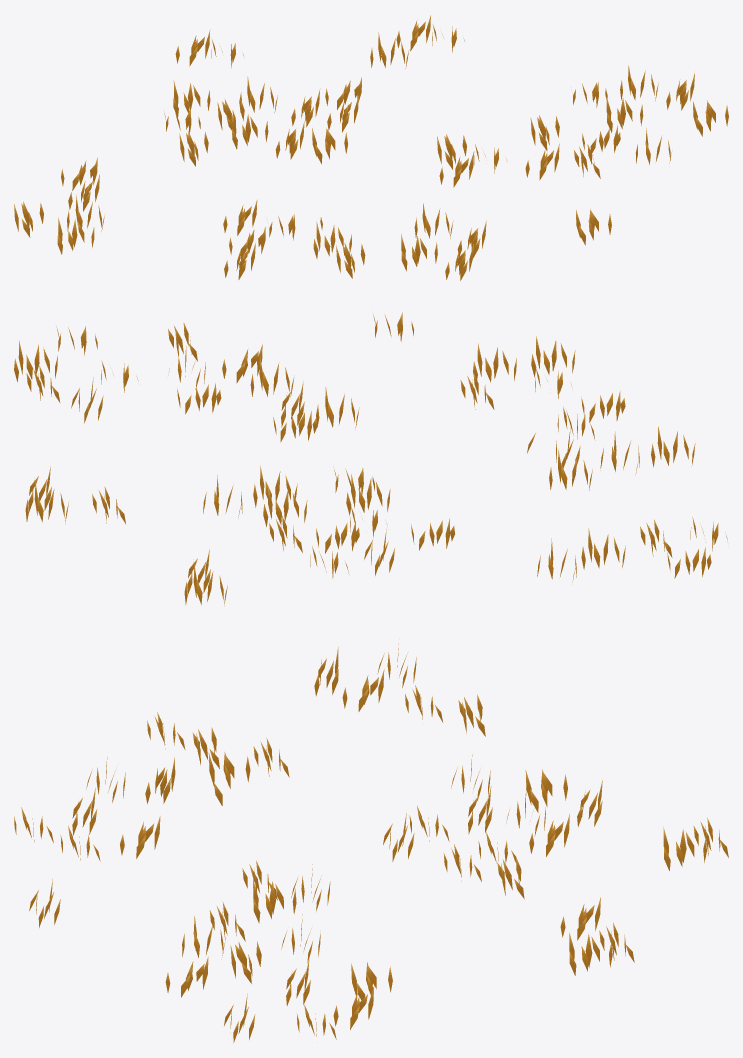
Rendered from plants_un_main_grass_set81_02.gltf.
The picture shows the model from 3 angles, top to bottom: view 1: azimuth 30°, elevation 25°; view 2: azimuth 150°, elevation 25°; view 3: azimuth 270°, elevation 25°; orthographic projection. The views are drawn at different scales.
Visible parts, largest first — view 1: plants_un_main_grass_set81_02_mesh_shape:plants_un_main_gras; view 2: plants_un_main_grass_set81_02_mesh_shape:plants_un_main_gras; view 3: plants_un_main_grass_set81_02_mesh_shape:plants_un_main_gras.
Part boxes in pixels (<box>): plants_un_main_grass_set81_02_mesh_shape:plants_un_main_gras: <box>14,15,728,280</box>; plants_un_main_grass_set81_02_mesh_shape:plants_un_main_gras: <box>14,312,727,605</box>; plants_un_main_grass_set81_02_mesh_shape:plants_un_main_gras: <box>14,643,728,1042</box>.
Size of what is drawn, in the model's own units: 9.09 by 0.4196 by 7.36.
Materials: 1 (1 with a texture image).
